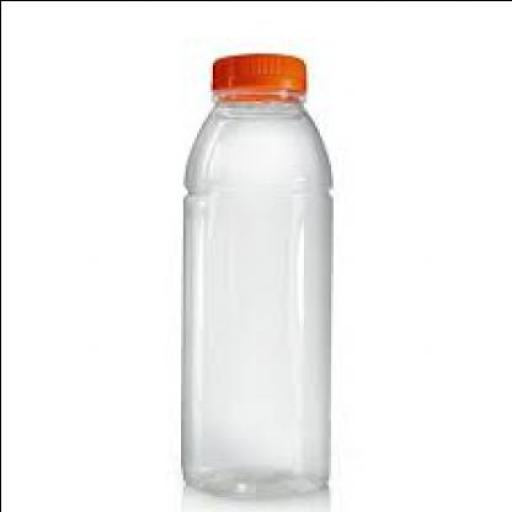plastic: (175, 50, 328, 494), (207, 50, 305, 100)
